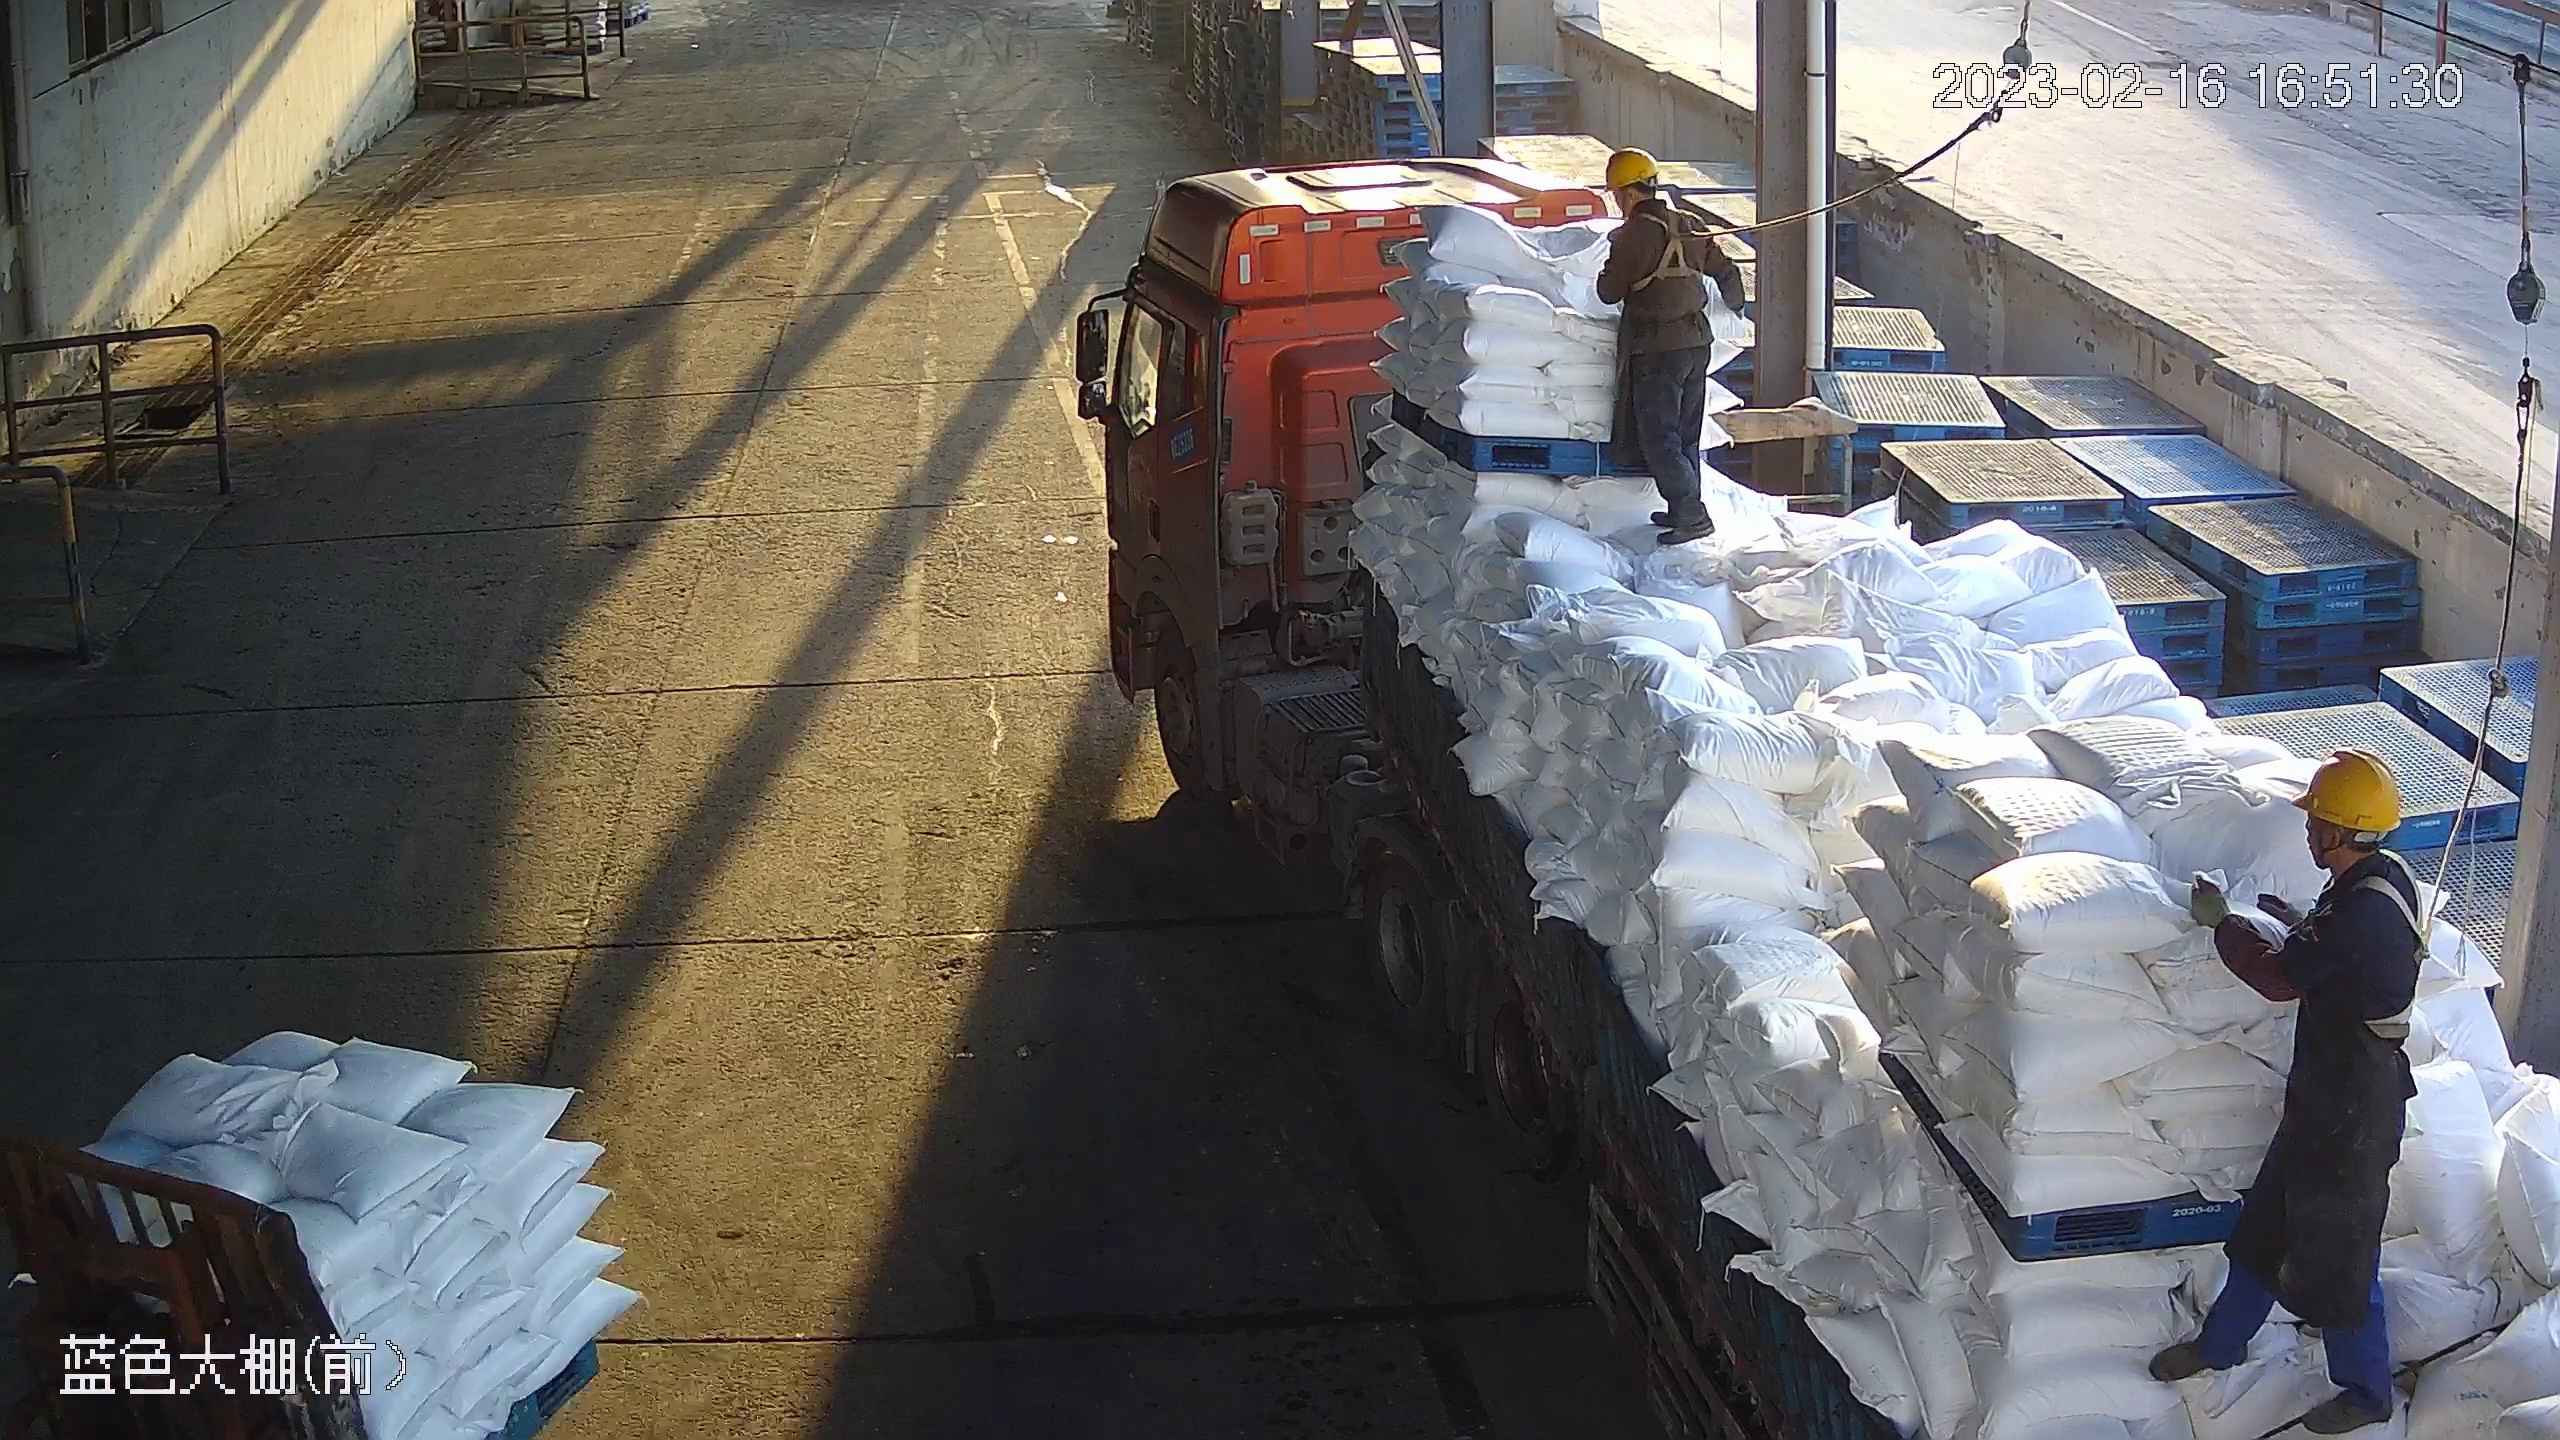belt: (2342, 834, 2450, 1045), (1618, 207, 1720, 294)
head: (2185, 760, 2433, 949), (1601, 151, 1733, 268)
helmet: (2305, 744, 2407, 834), (1592, 140, 1675, 188)
people: (2185, 751, 2425, 1434), (1601, 147, 1773, 553)
truck: (1070, 147, 2560, 1438)
